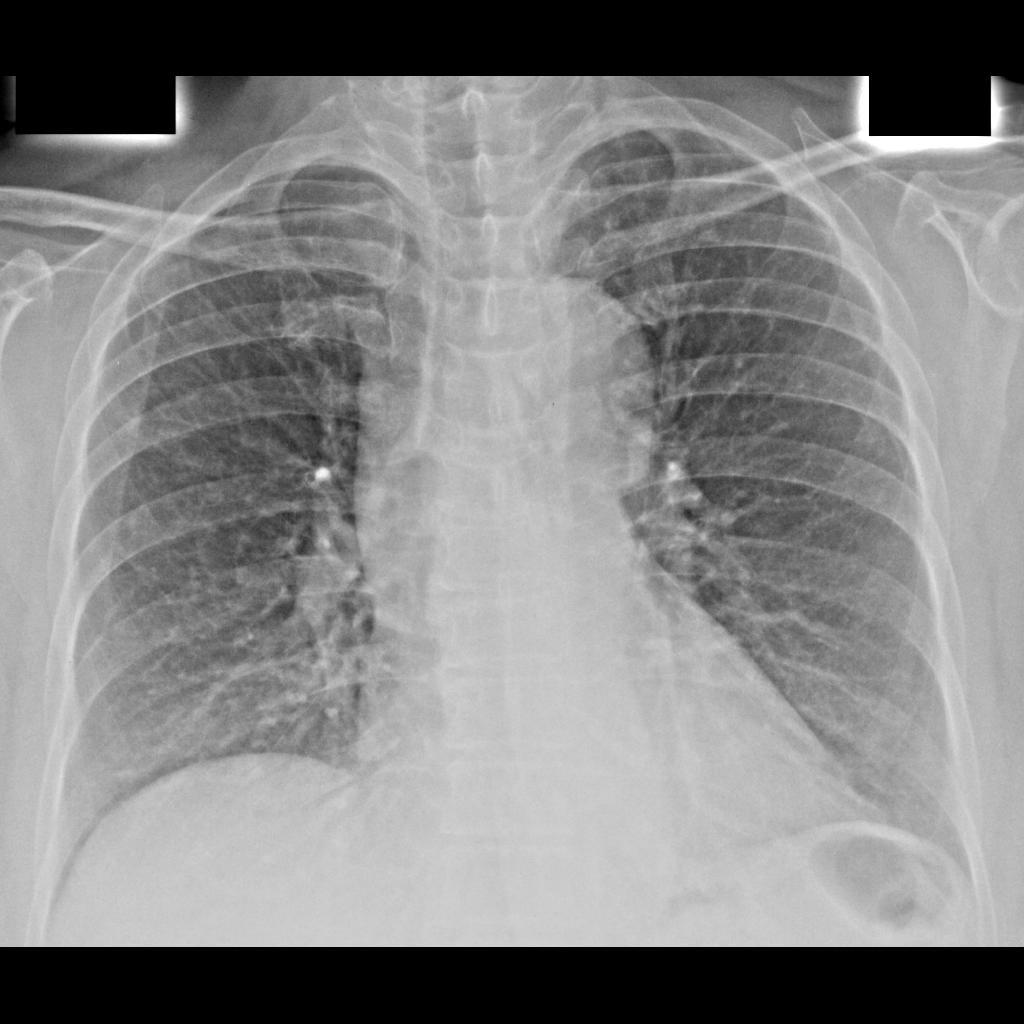Nodule: (110, 391, 147, 428)
